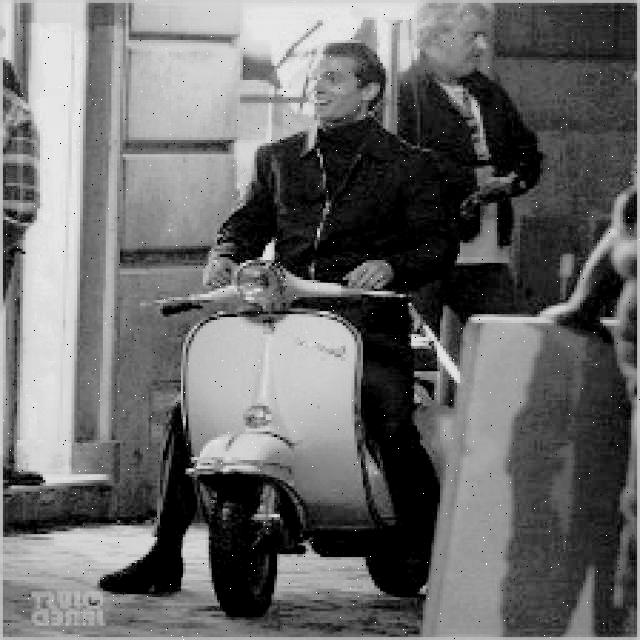Bike: (164, 278, 396, 606)
